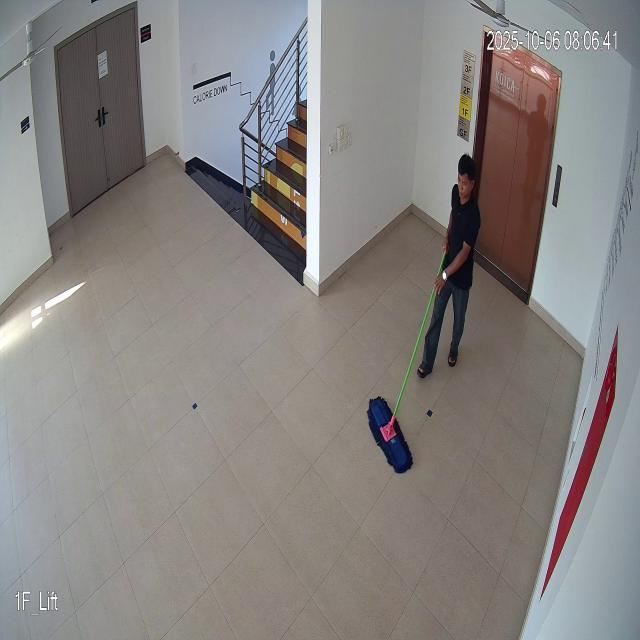face: (455, 150, 482, 206)
